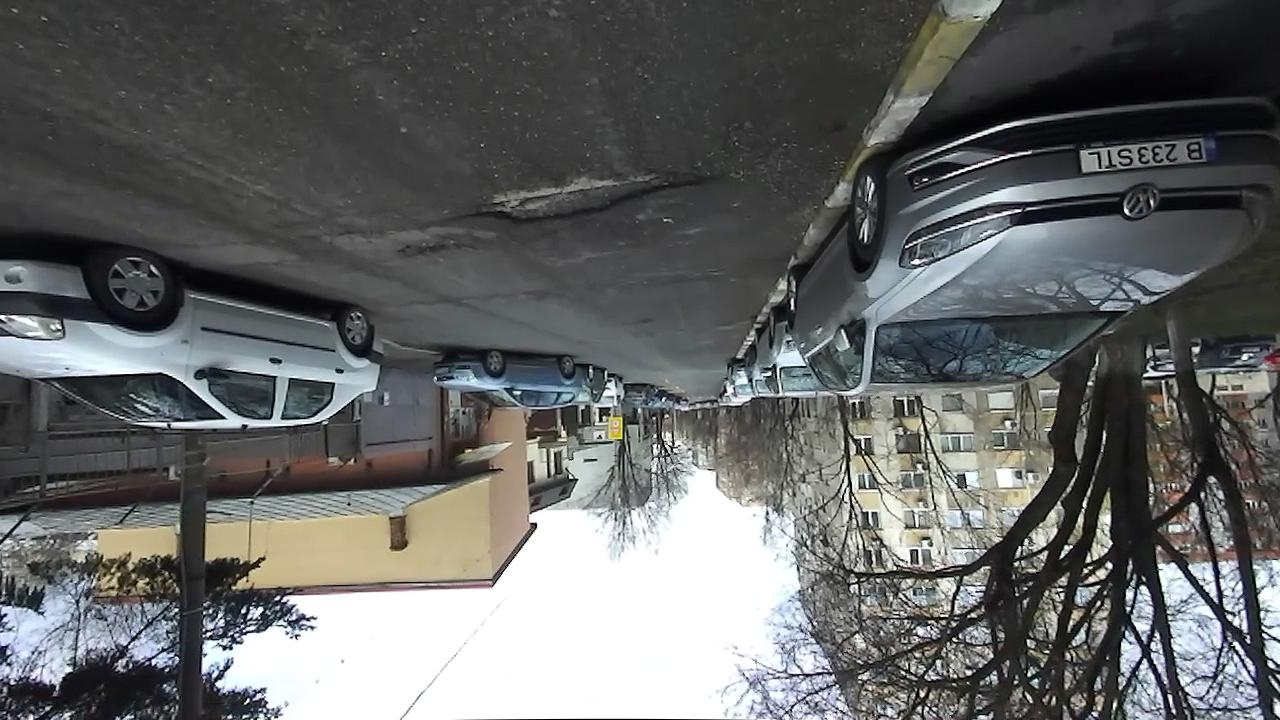pothole: (446, 166, 711, 227), (390, 237, 478, 260)
